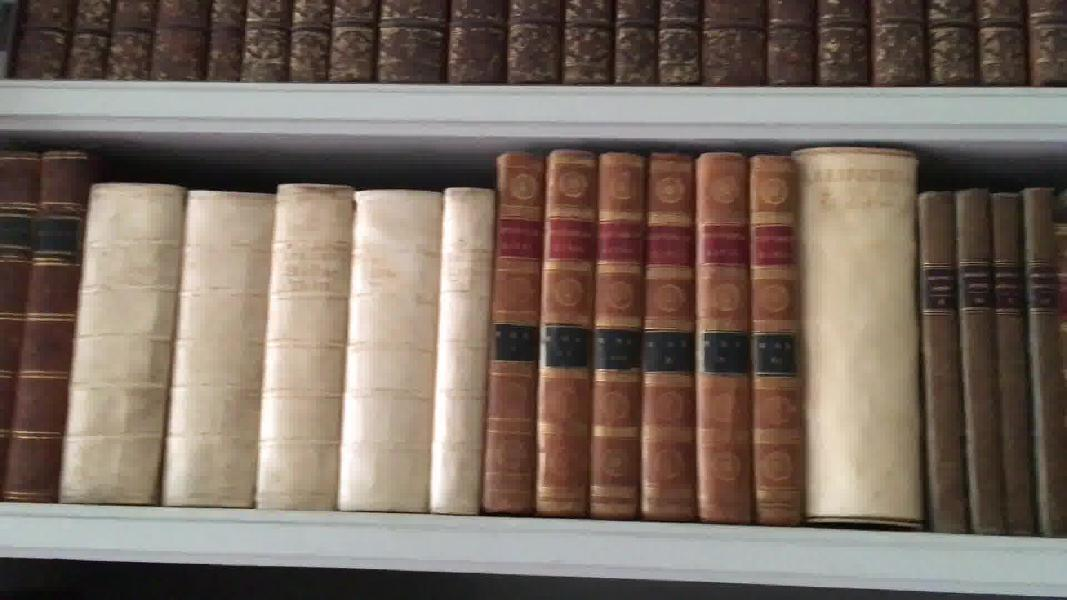Kk4-14: (790, 146, 924, 530)
Kk4-15_16: (913, 189, 1001, 541)
Kk4-17_18: (987, 186, 1067, 535)
Kk4-1_2: (4, 148, 87, 504)
Kk4-3_7: (55, 177, 496, 517)
Kk4-8_13: (484, 153, 808, 531)
